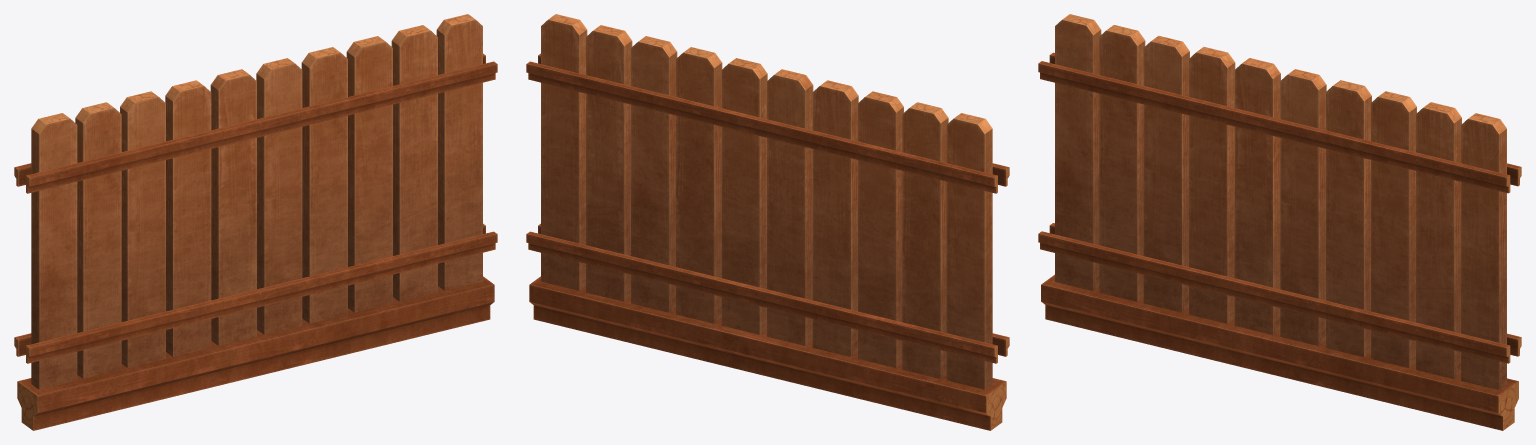
The model's file is Brown Panel.gltf.
3 views of the same model, side by side, from view 1: azimuth 30°, elevation 25°; view 2: azimuth 150°, elevation 25°; view 3: azimuth 330°, elevation 25° (orthographic).
Parts seen in each view (by area): view 1: Fence1_Large_Left_Planks_MAT_0.001, Fence1_Large_Left_Frames_MAT_0.001; view 2: Fence1_Large_Left_Planks_MAT_0.001, Fence1_Large_Left_Frames_MAT_0.001; view 3: Fence1_Large_Left_Planks_MAT_0.001, Fence1_Large_Left_Frames_MAT_0.001.
Part boxes in pixels (bbox=[...]): Fence1_Large_Left_Planks_MAT_0.001: bbox=[31, 14, 482, 389]; Fence1_Large_Left_Frames_MAT_0.001: bbox=[14, 53, 497, 430]; Fence1_Large_Left_Planks_MAT_0.001: bbox=[541, 14, 992, 389]; Fence1_Large_Left_Frames_MAT_0.001: bbox=[526, 53, 1009, 430]; Fence1_Large_Left_Planks_MAT_0.001: bbox=[1055, 14, 1506, 389]; Fence1_Large_Left_Frames_MAT_0.001: bbox=[1038, 52, 1521, 430].
Size of the model in its own units: 1.82 by 1.12 by 0.1373.
